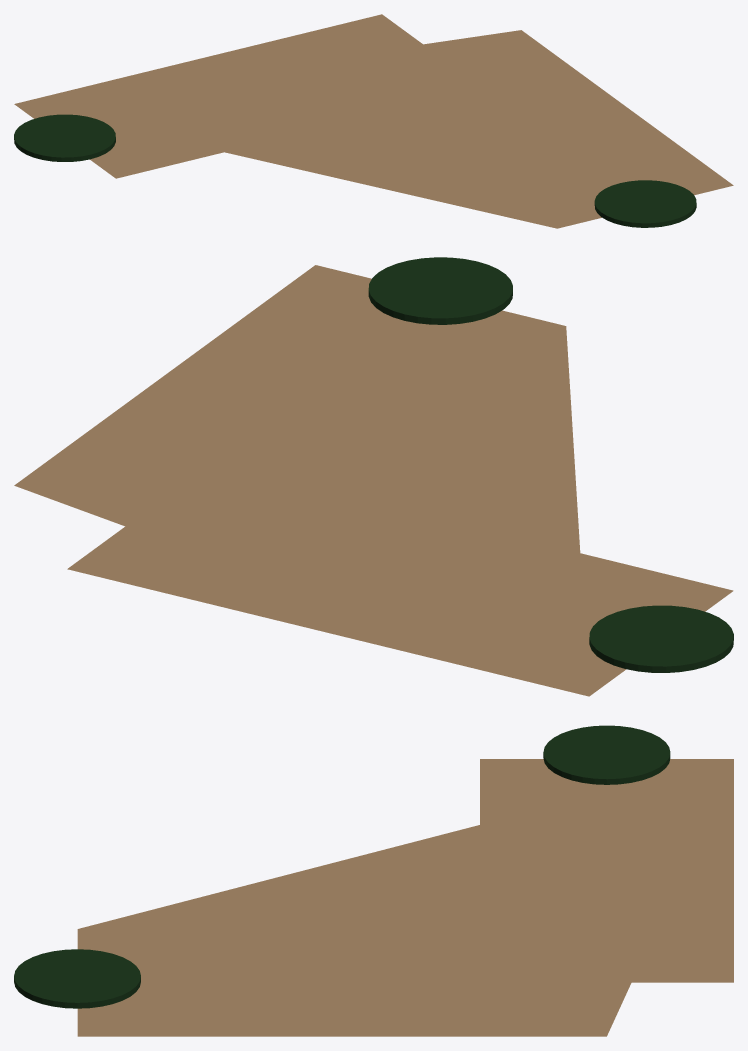
File: corner_dormant.glb
3 renders of one model, top to bottom at view 1: azimuth 30°, elevation 25°; view 2: azimuth 150°, elevation 25°; view 3: azimuth 270°, elevation 25°, orthographic. The views are drawn at different scales.
Parts seen in each view (by area): view 1: Corner_Trace, Via_Bottom, Via_Left; view 2: Corner_Trace, Via_Left, Via_Bottom; view 3: Corner_Trace, Via_Bottom, Via_Left.
Boxes of the visible parts, x1,y1,x2,y2 form: Corner_Trace: (14, 14, 733, 228); Via_Bottom: (594, 180, 696, 227); Via_Left: (14, 114, 115, 161); Corner_Trace: (14, 265, 733, 696); Via_Left: (589, 605, 733, 672); Via_Bottom: (368, 257, 512, 324); Corner_Trace: (77, 759, 733, 1036); Via_Bottom: (14, 949, 140, 1008); Via_Left: (543, 725, 670, 784).
Bounding box in the file's own units: 0.68 × 0.007 × 0.68.
